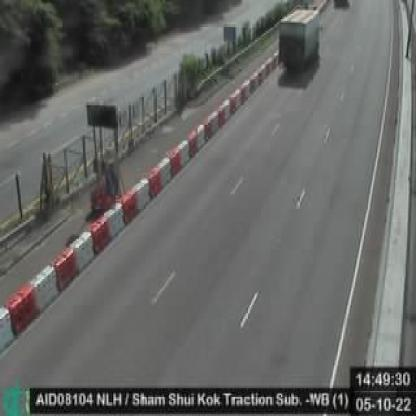Truck: (277, 9, 318, 74)
